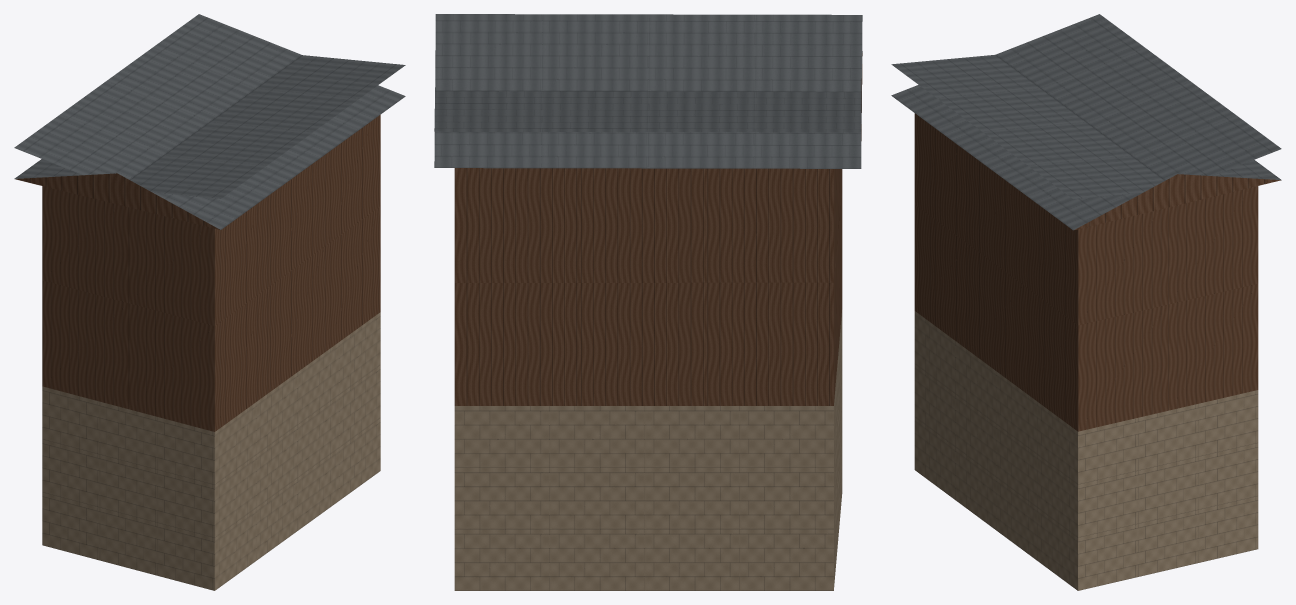
File: bld_c18_16_509.gltf
3 views of the same model, side by side, from view 1: azimuth 30°, elevation 25°; view 2: azimuth 150°, elevation 25°; view 3: azimuth 270°, elevation 25° (orthographic). The views are drawn at different scales.
Visible parts, largest first — view 1: bld_c18_16_509; view 2: bld_c18_16_509; view 3: bld_c18_16_509.
Part boxes in pixels (x1=…): bld_c18_16_509: x1=14, y1=14, x2=405, y2=590; bld_c18_16_509: x1=434, y1=14, x2=862, y2=590; bld_c18_16_509: x1=891, y1=14, x2=1281, y2=590.
Bounding box in the file's own units: 12.72 × 12.9 × 11.34.
Materials: 4 (4 with a texture image).
